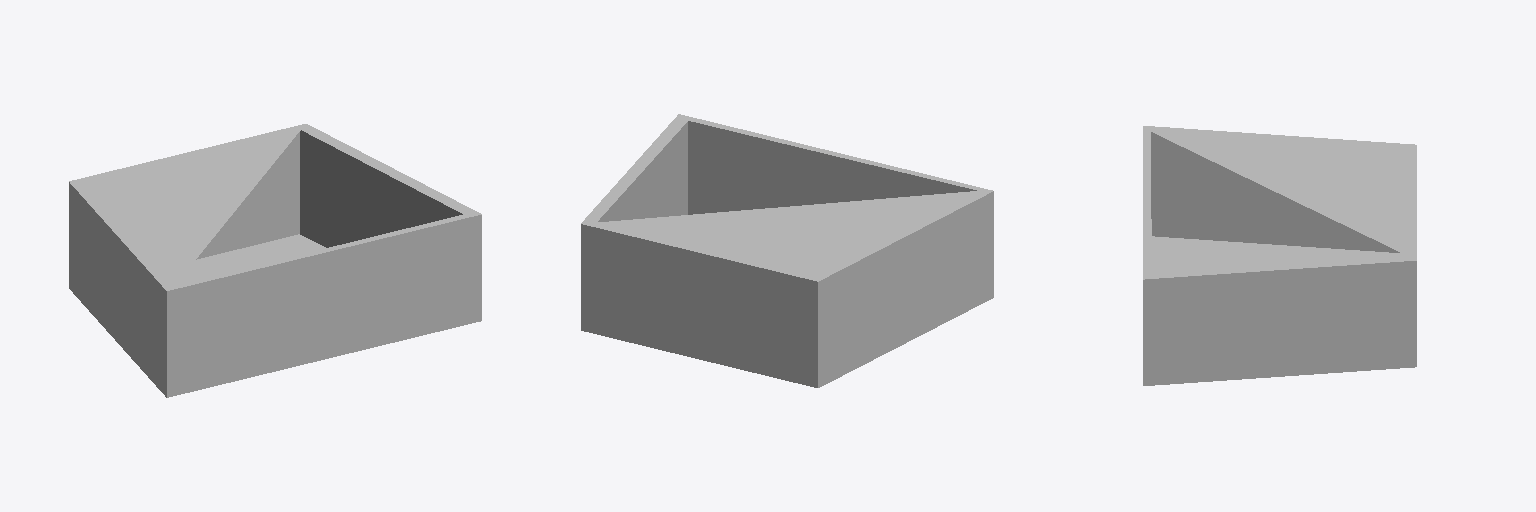
Rendered from spaceship0.obj.
3 renders of one model, left to right at view 1: azimuth 30°, elevation 25°; view 2: azimuth 150°, elevation 25°; view 3: azimuth 270°, elevation 25°, orthographic.
Visible parts, largest first — view 1: Walls; view 2: Walls; view 3: Walls.
Part boxes in pixels (bbox=[...]): Walls: bbox=[69, 124, 481, 397]; Walls: bbox=[581, 114, 993, 387]; Walls: bbox=[1143, 126, 1416, 385].
Size of the model in its own units: 31.88 by 10.3 by 24.